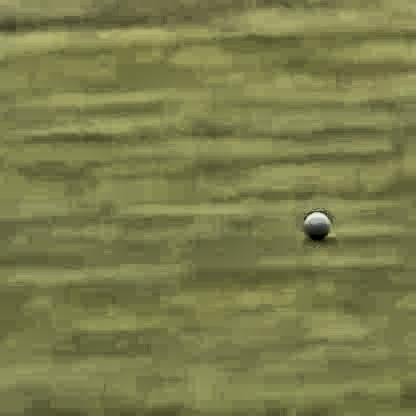golfball: (302, 207, 326, 235)
